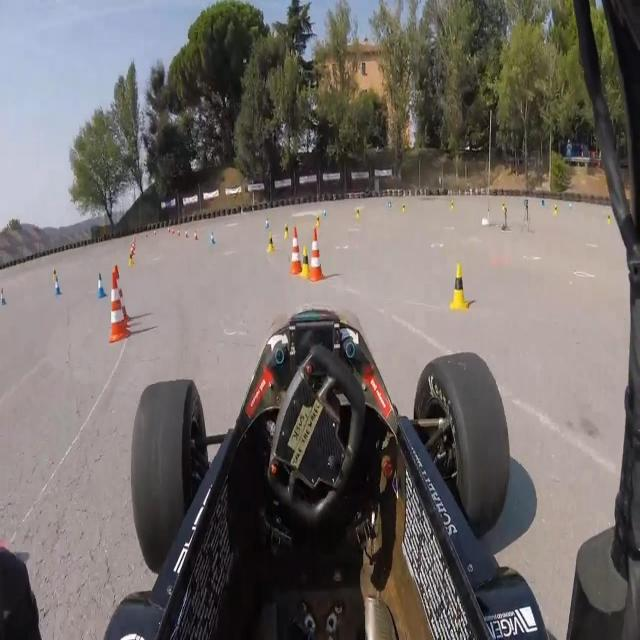blue_cone: (97, 271, 106, 298), (54, 277, 62, 298), (0, 287, 7, 308), (210, 230, 216, 246), (264, 216, 270, 230)
large_orange_cone: (108, 273, 128, 346), (112, 266, 129, 332), (308, 226, 326, 288), (289, 226, 302, 277)
orange_cone: (130, 246, 135, 256), (194, 230, 198, 241), (131, 242, 135, 252), (177, 228, 180, 238), (185, 229, 188, 238)
yellow_cone: (448, 262, 468, 315), (266, 234, 276, 255), (282, 220, 290, 240), (51, 267, 58, 283), (553, 202, 559, 220), (128, 249, 134, 267), (402, 200, 408, 215), (450, 196, 455, 209), (356, 204, 360, 220), (316, 213, 320, 227), (502, 198, 506, 211)
